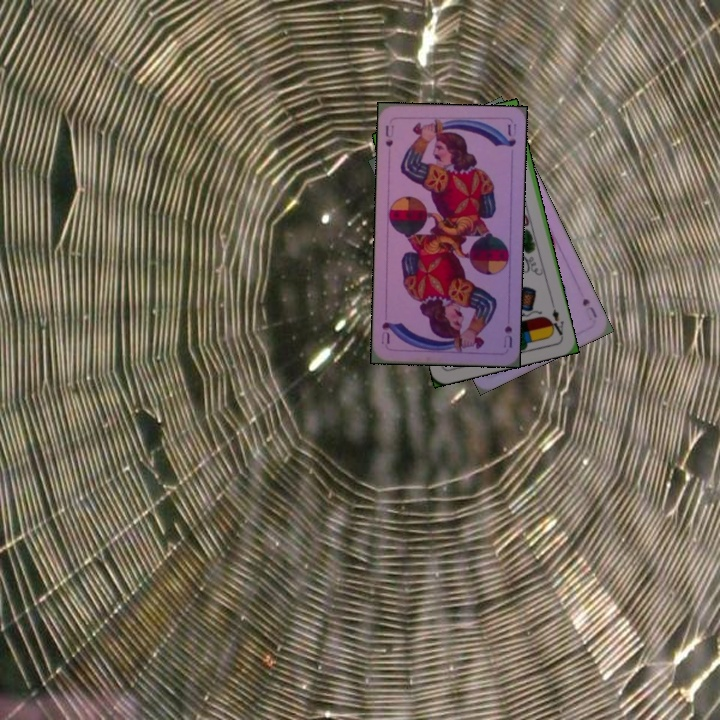EA: (545, 299, 566, 339)
SU: (578, 293, 600, 320), (499, 321, 515, 350), (381, 121, 396, 149)
